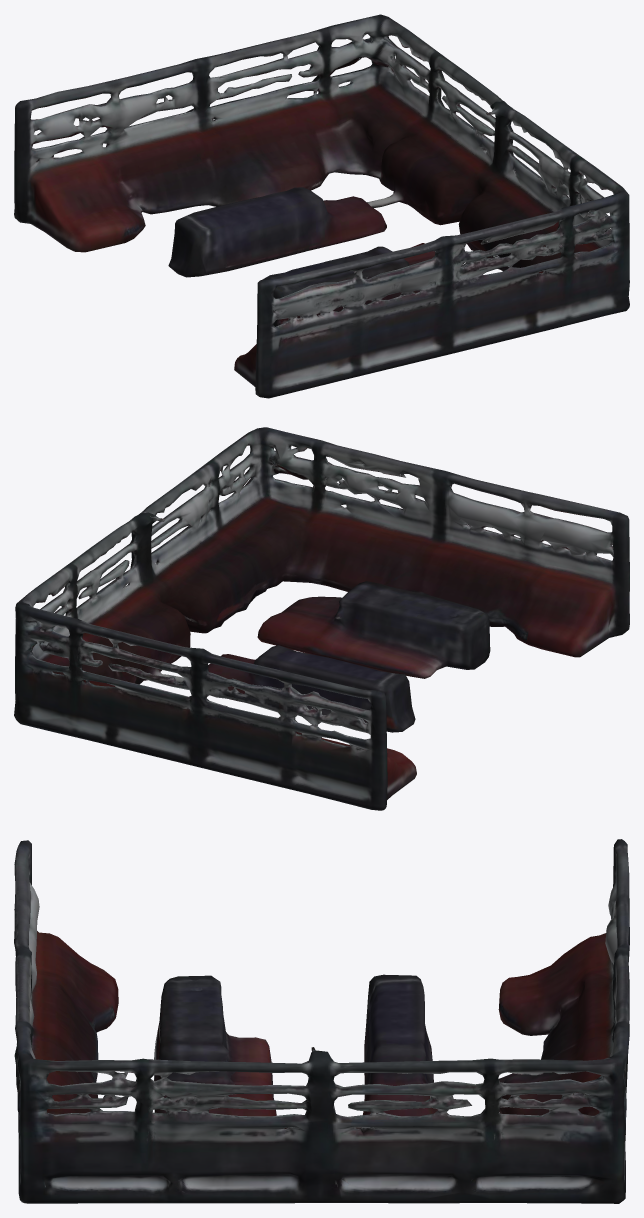
File: 0a3e6c793edd_Shooting_range__3d_.fbx
3 views of the same model, one above another, from view 1: azimuth 30°, elevation 25°; view 2: azimuth 150°, elevation 25°; view 3: azimuth 270°, elevation 25° (orthographic). The views are drawn at different scales.
Parts seen in each view (by area): view 1: mesh; view 2: mesh; view 3: mesh.
Boxes of the visible parts, bbox=[...] form: mesh: bbox=[14, 14, 629, 398]; mesh: bbox=[14, 427, 629, 810]; mesh: bbox=[14, 839, 629, 1203].
Bounding box in the file's own units: 86.46 × 26.79 × 100.
